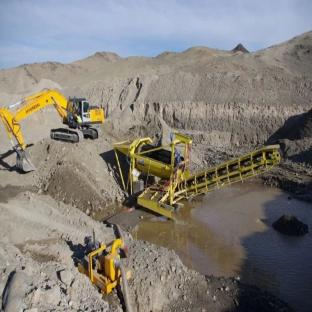ExcavationMachinery: (1, 84, 107, 175)
ProcessingEquipment: (111, 133, 289, 229)
